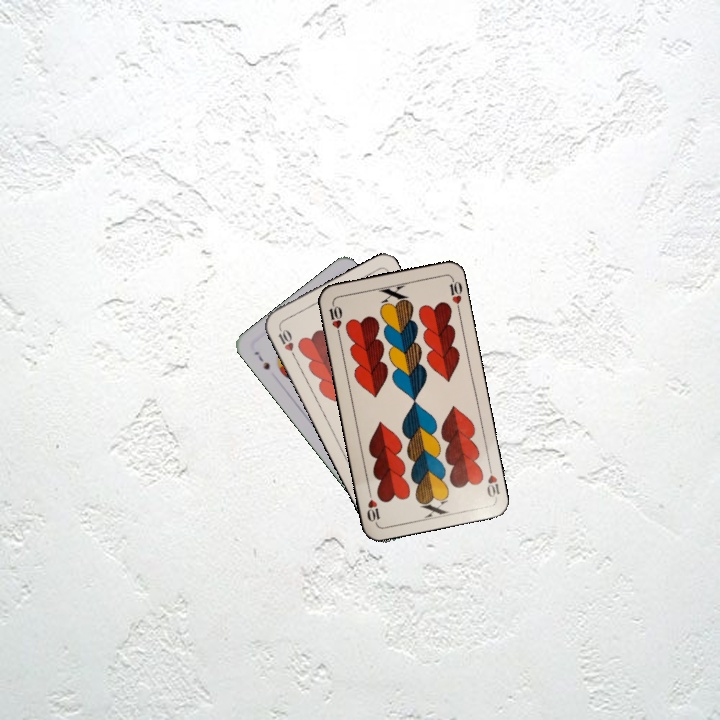H10: (274, 322, 298, 360), (324, 299, 345, 339), (483, 461, 502, 501)
S7: (250, 347, 272, 373)
